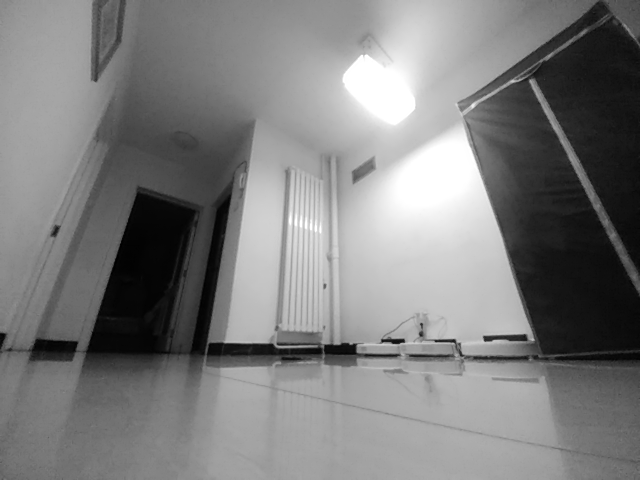others: (280, 356, 310, 363)
